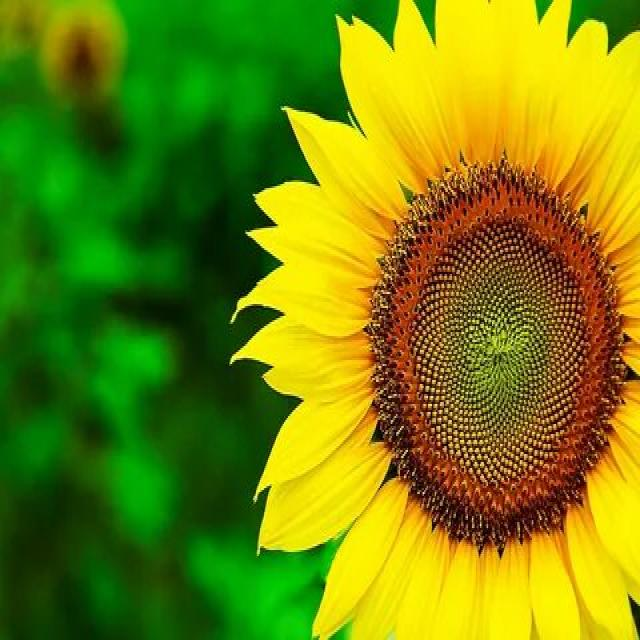sunflower: (246, 2, 640, 640)
